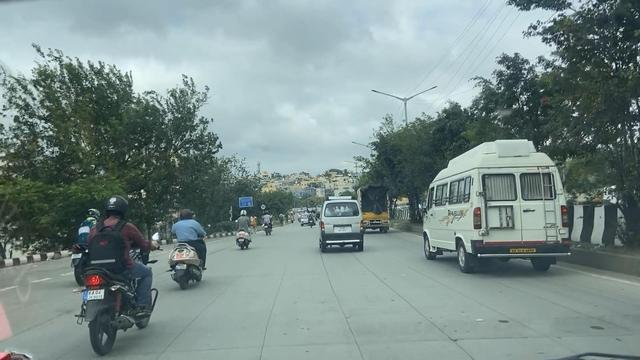HMV: (424, 159, 563, 268), (359, 186, 393, 233)
LMV: (72, 199, 165, 355), (162, 203, 210, 290), (314, 196, 365, 249)
